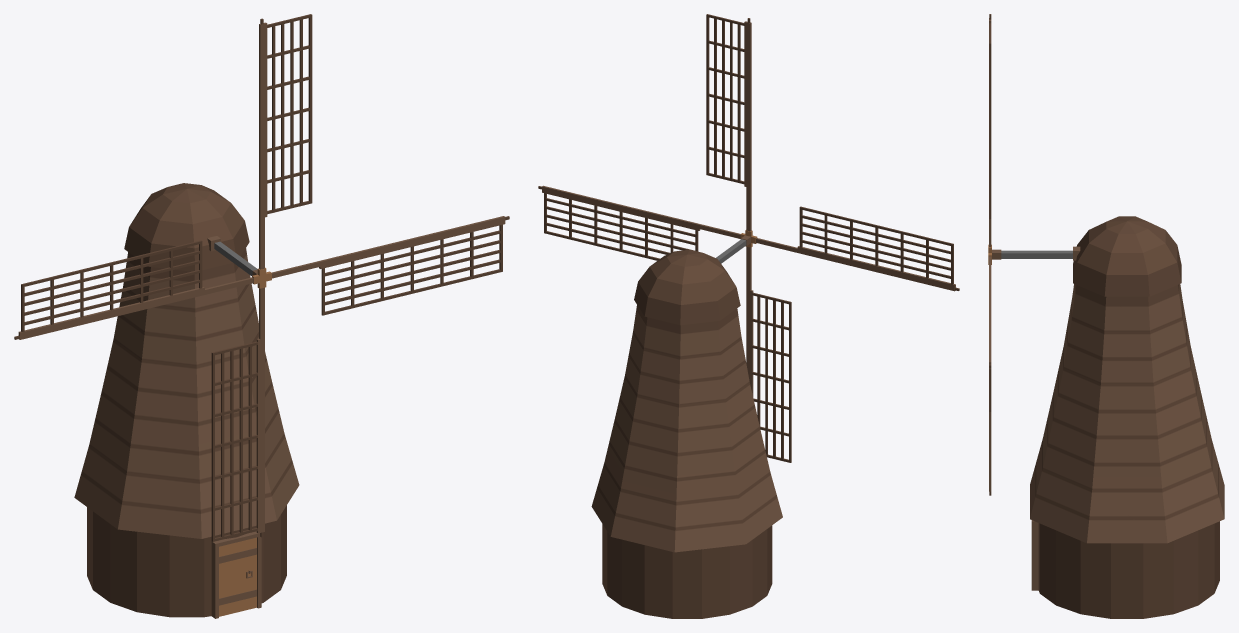
File: SPW_Medieval_Windmill.glb
The picture shows the model from 3 angles, left to right: view 1: azimuth 30°, elevation 25°; view 2: azimuth 150°, elevation 25°; view 3: azimuth 270°, elevation 25°; orthographic projection. The views are drawn at different scales.
Visible parts, largest first — view 1: Base, Wing; view 2: Base, Wing; view 3: Base, Wing.
Boxes of the visible parts, x1,y1,x2,y2 form: Base: (74,183,299,618); Wing: (14,14,509,541); Base: (591,249,782,618); Wing: (538,14,959,462); Base: (1030,216,1224,618); Wing: (988,14,1072,495).
Size of the model in its own units: 10.7 by 12.61 by 4.77.
Materials: 1 (1 with a texture image).
